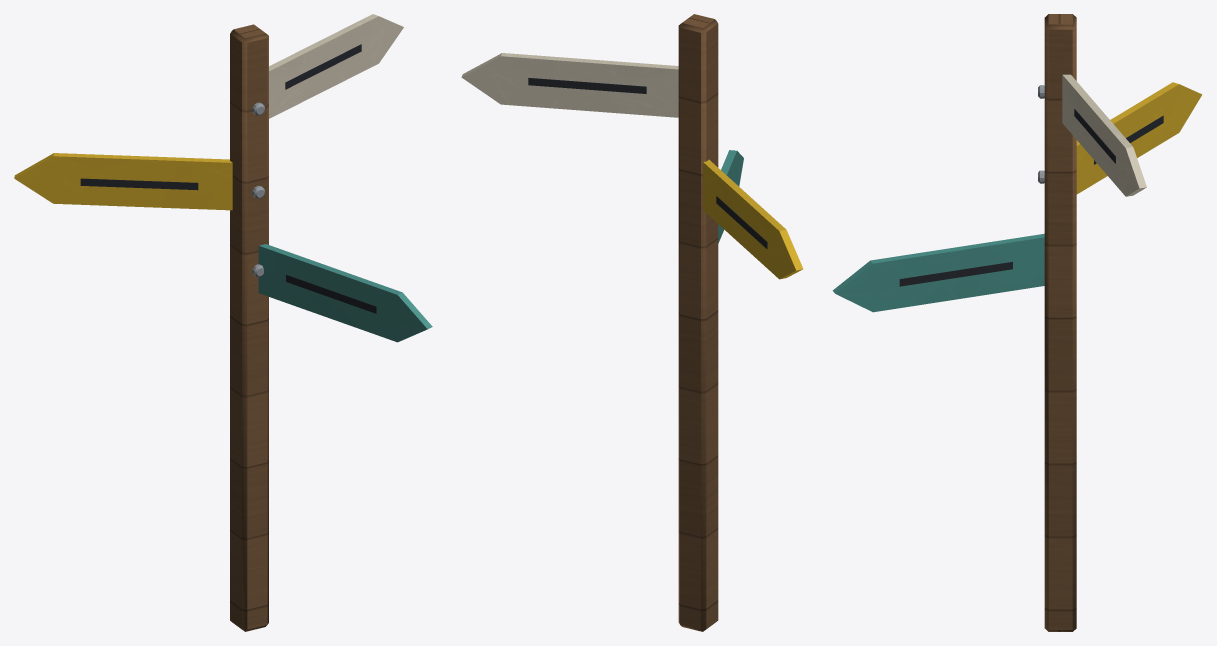
The model's file is signpost.glb.
3 renders of one model, left to right at view 1: azimuth 30°, elevation 25°; view 2: azimuth 150°, elevation 25°; view 3: azimuth 270°, elevation 25°, orthographic. The views are drawn at different scales.
Visible parts, largest first — view 1: signpost; view 2: signpost; view 3: signpost.
Boxes of the visible parts, x1,y1,x2,y2 form: signpost: [14, 14, 432, 631]; signpost: [461, 14, 803, 631]; signpost: [832, 14, 1202, 631].
Bounding box in the file's own units: 1.6 × 2.5 × 1.38.
Materials: 6 (6 with a texture image).
